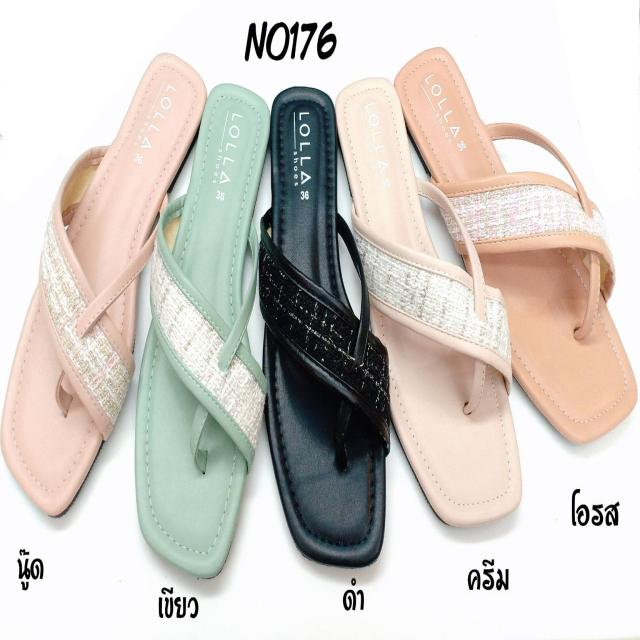black: (260, 93, 389, 560)
cream: (342, 84, 516, 526)
green: (135, 88, 260, 576)
nood: (3, 54, 200, 511)
orot: (396, 49, 634, 436)
